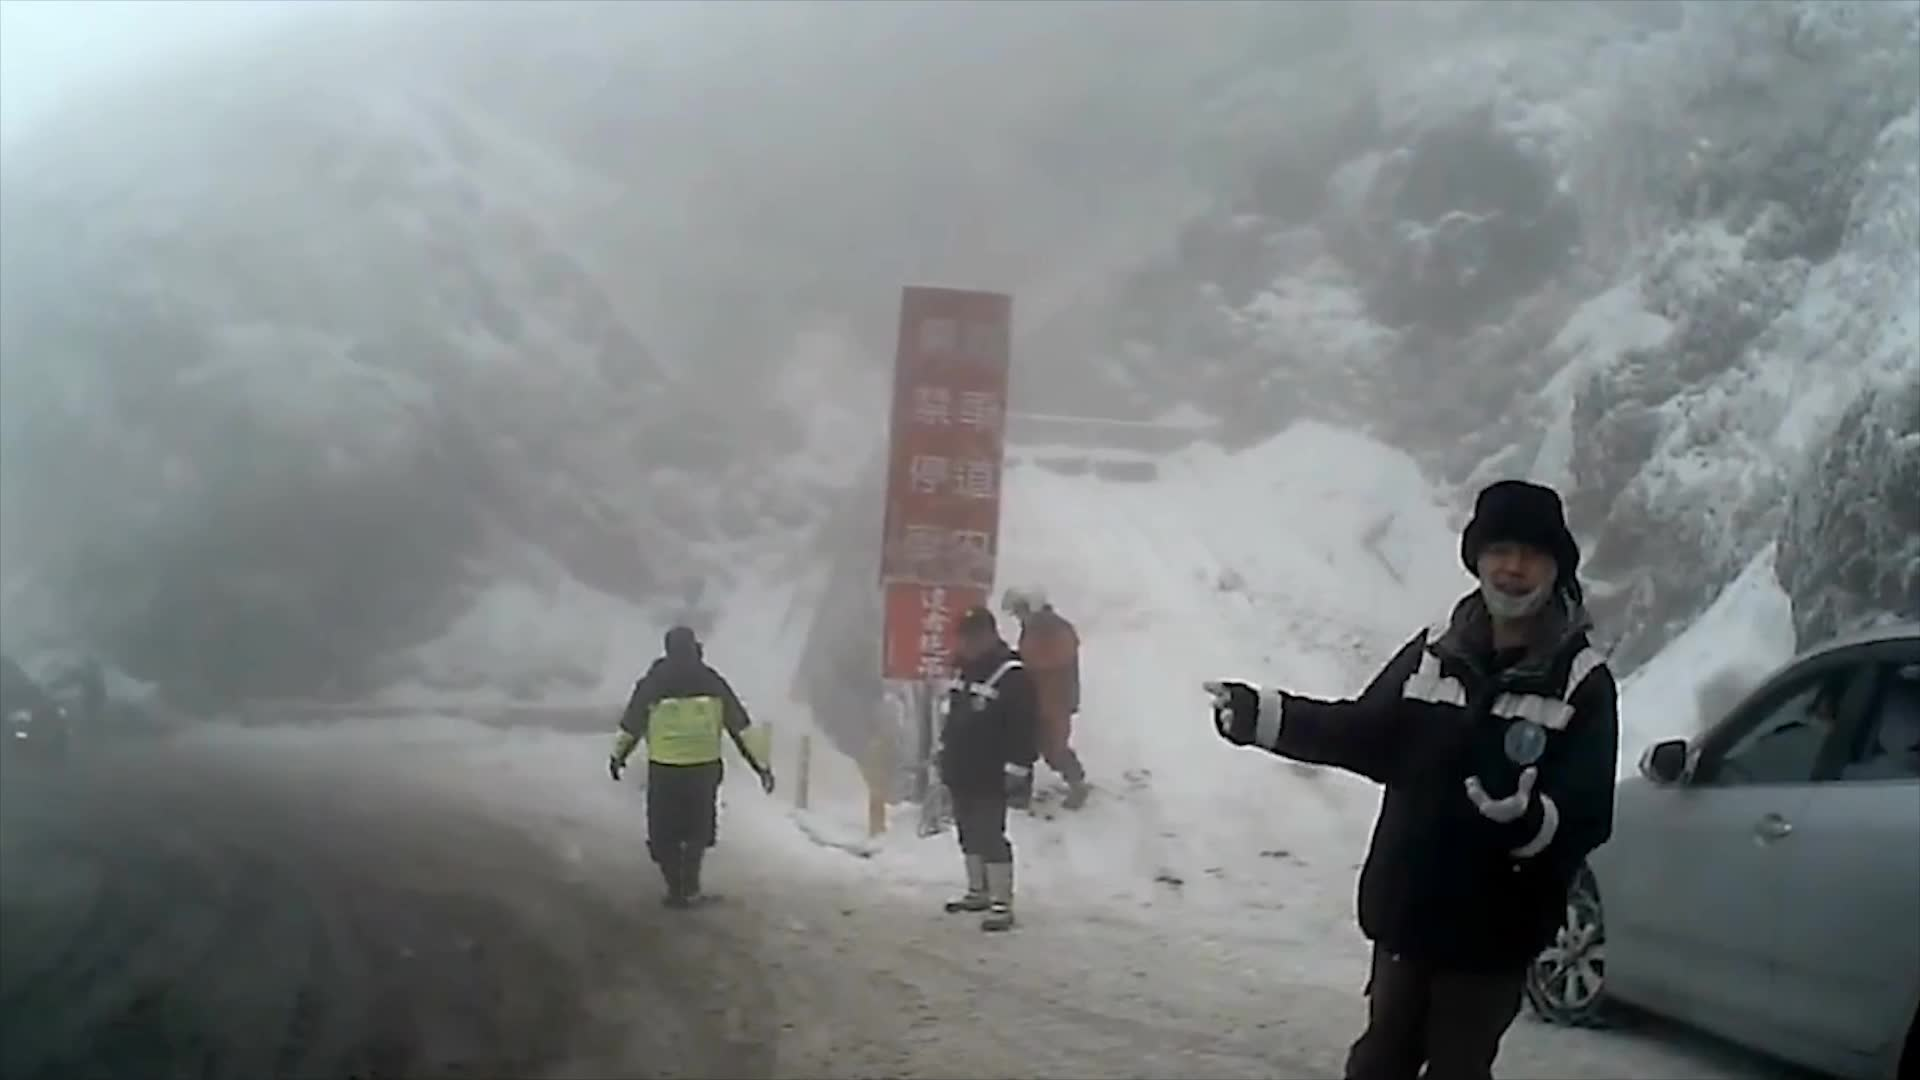pedestrian: (1196, 478, 1624, 1078), (611, 631, 772, 905), (939, 605, 1046, 931), (1006, 576, 1098, 814)
vehicle: (1488, 629, 1918, 1079)
